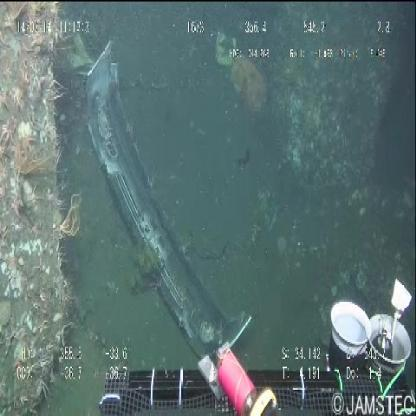Rov: (86, 274, 416, 411)
Rác: (76, 43, 257, 347)
